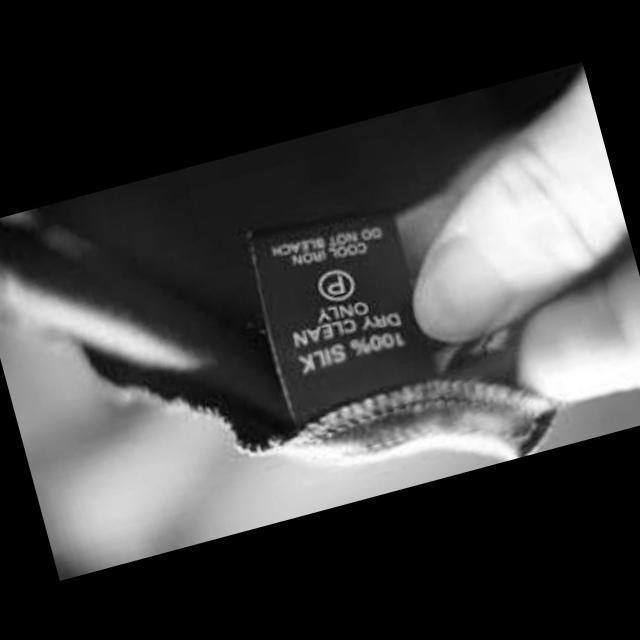normal_dry_clean_solvents: (310, 262, 361, 308)
